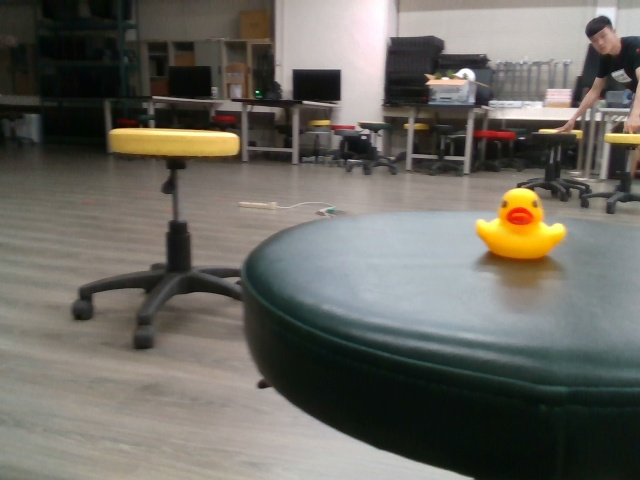duck: (472, 183, 572, 264)
